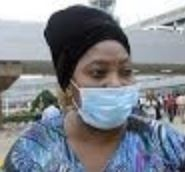with_facemask: (72, 79, 154, 137)
